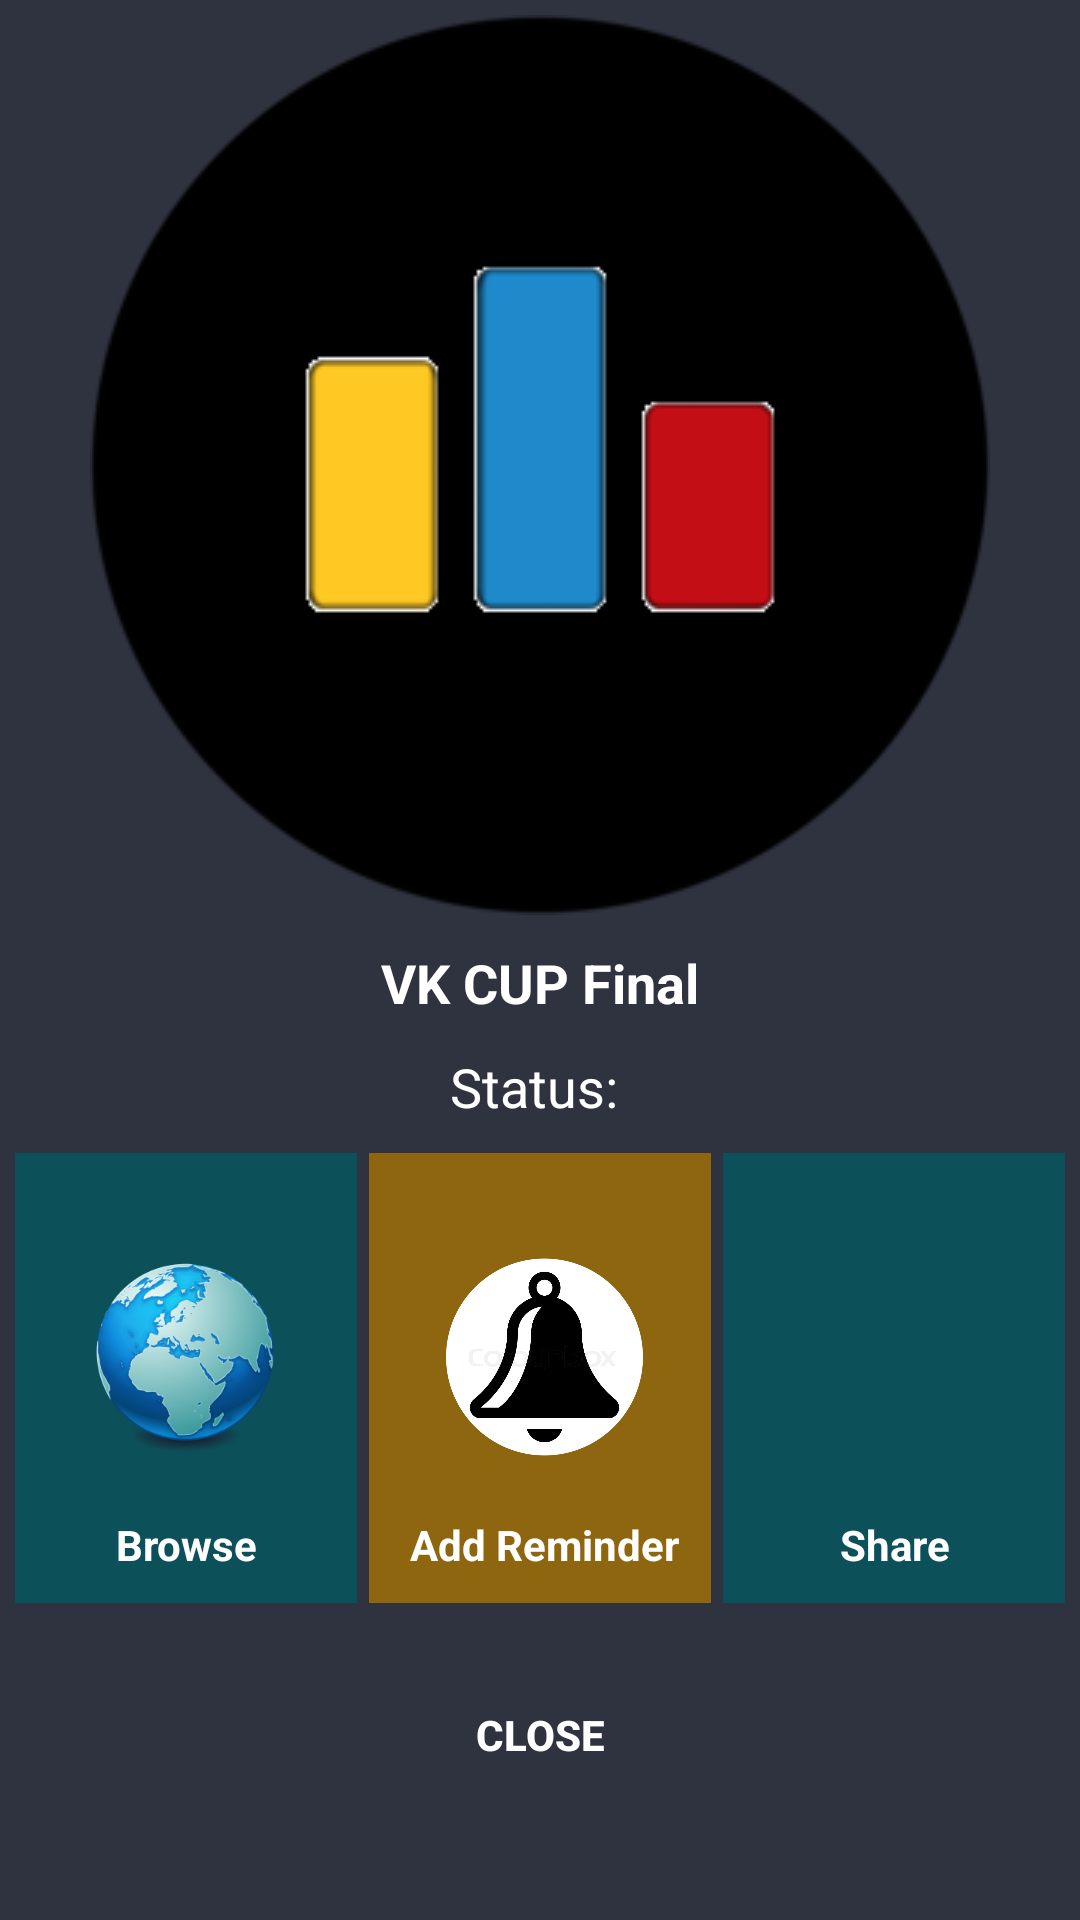

Screen size 1080 × 1920. Icon name, then its box in pixels as (x1, y1, x2, y2):
bell: (446, 1258, 643, 1456)
